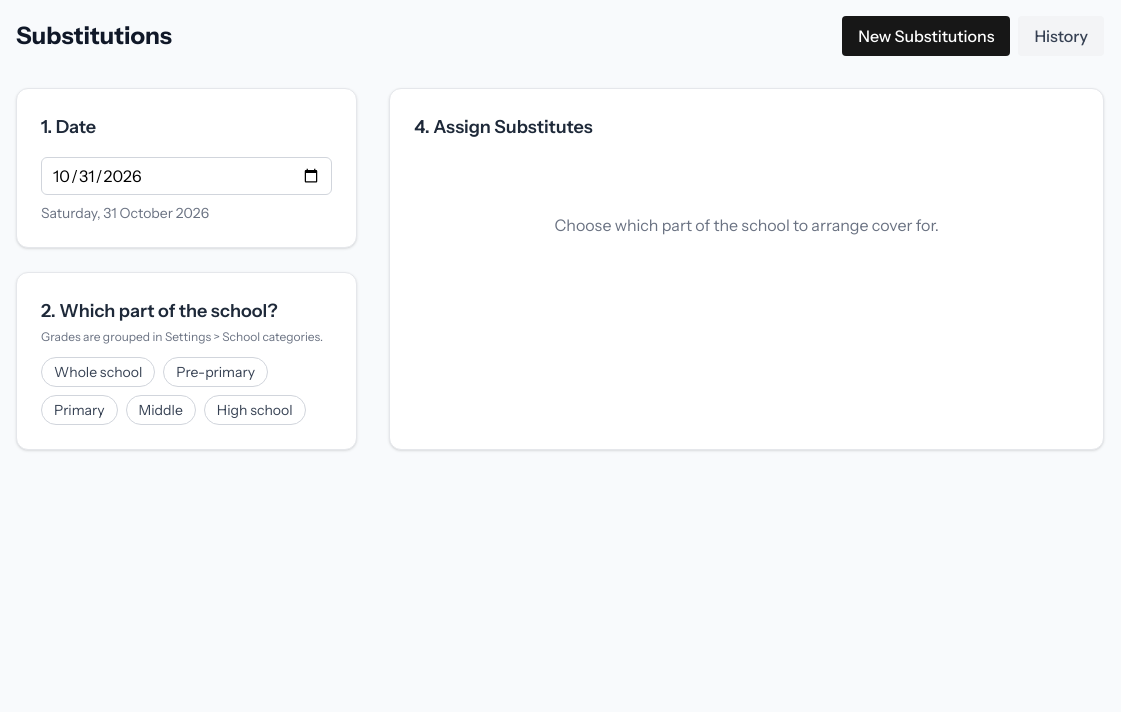
Test: who is away, and when › a whole day off needs cover for every lesson
In the date field named "Date": (187, 176) [41, 157, 332, 195], type "2026-10-26"
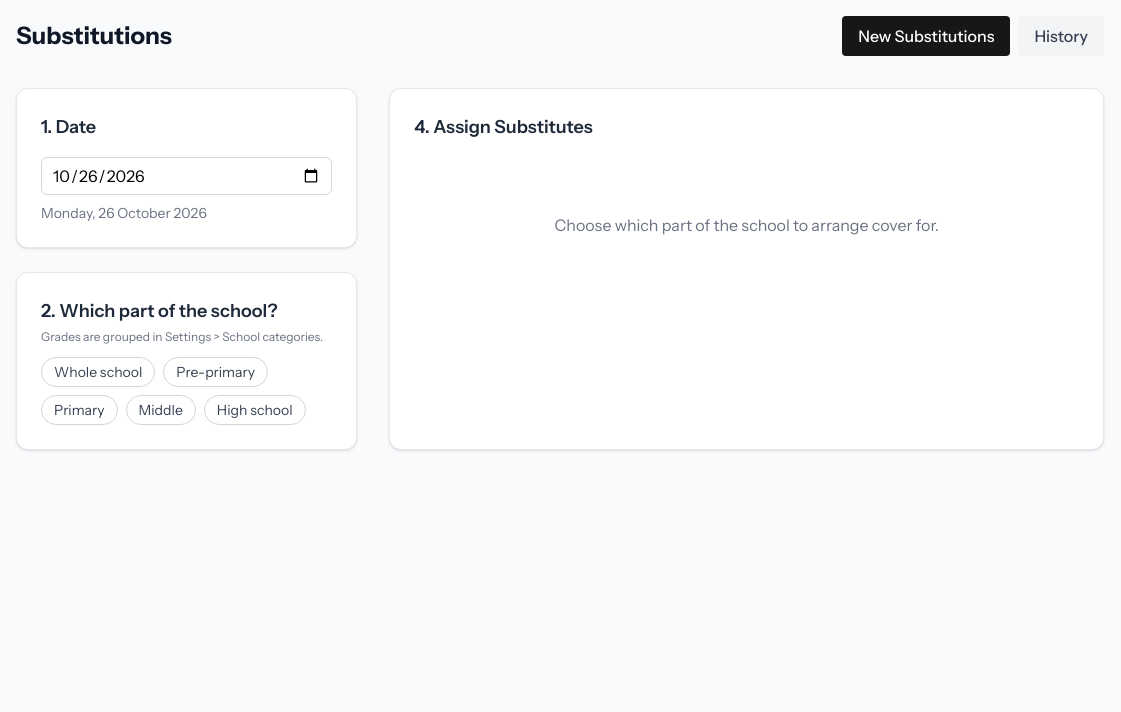
Click the radio button labelled "Primary": (79, 410) [41, 395, 118, 425]
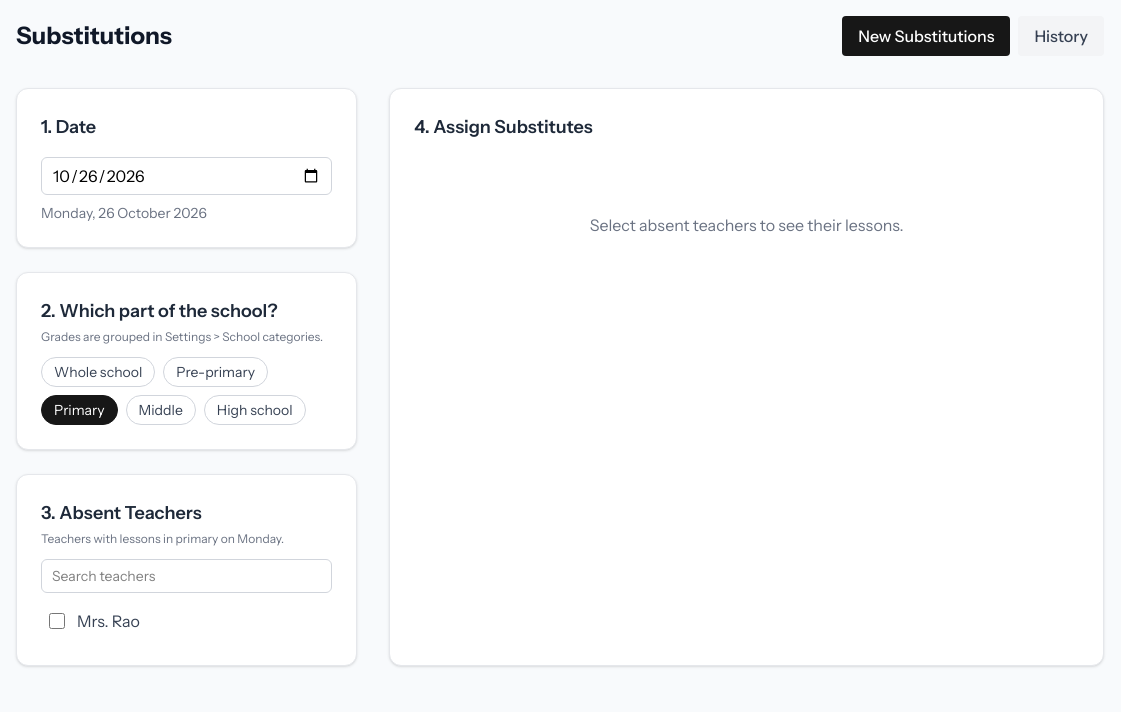
Click the checkbox labelled "Mrs. Rao": (57, 621) [49, 613, 65, 629]
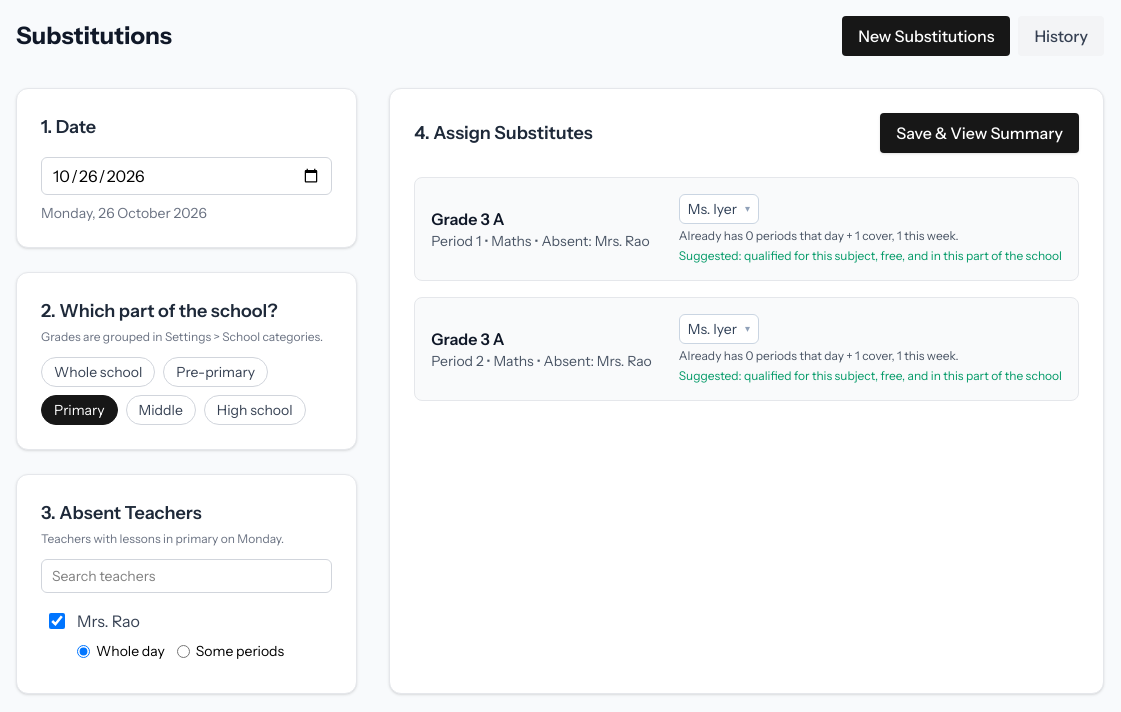
Expected: the text "Period 1 • Maths • Absent: Mrs. Rao" is shown, [431, 231, 650, 251]
Expected: the text "Period 2 • Maths • Absent: Mrs. Rao" is shown, [431, 351, 652, 371]
